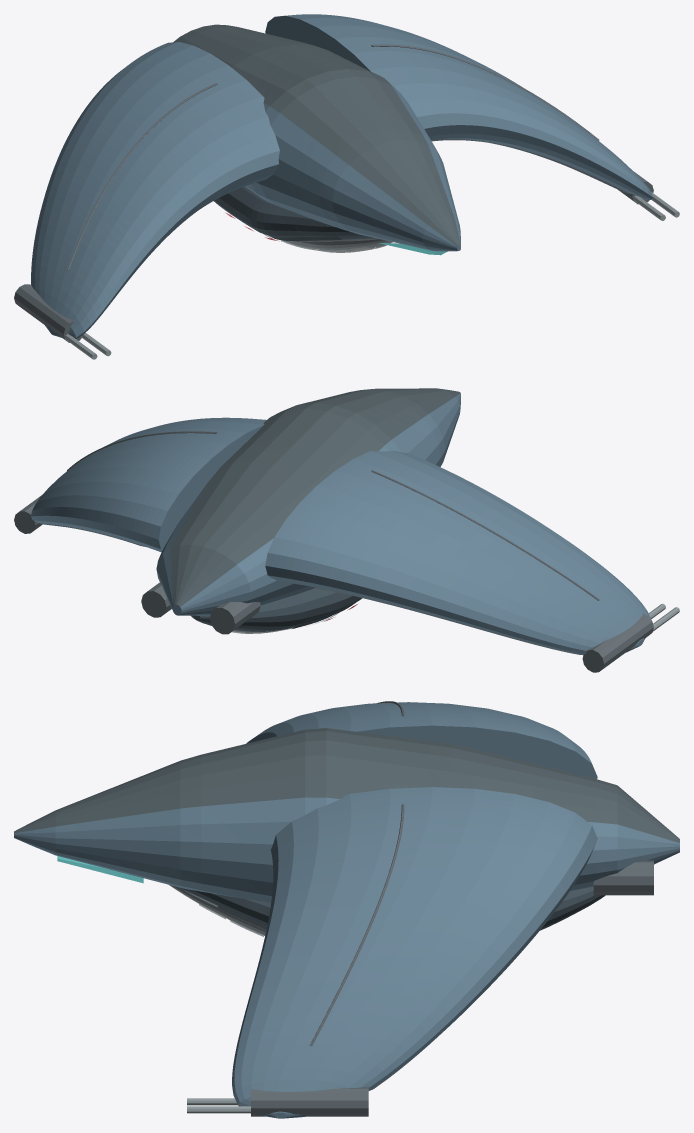
The model's file is ambwe_blue_off.glb.
The picture shows the model from 3 angles, top to bottom: view 1: azimuth 30°, elevation 25°; view 2: azimuth 150°, elevation 25°; view 3: azimuth 270°, elevation 25°; orthographic projection. The views are drawn at different scales.
Visible parts, largest first — view 1: material_0, material_1, material_2, material_9, material_11, material_3, material_5; view 2: material_0, material_1, material_9, material_2, material_10; view 3: material_0, material_1, material_9, material_2, material_11, material_3.
Part boxes in pixels (<box>): material_0: <box>31,14,652,339</box>; material_1: <box>173,24,460,246</box>; material_2: <box>214,186,377,239</box>; material_9: <box>14,44,653,342</box>; material_11: <box>65,192,679,359</box>; material_3: <box>283,238,392,251</box>; material_5: <box>214,200,342,240</box>; material_0: <box>31,393,651,654</box>; material_1: <box>170,388,460,606</box>; material_9: <box>14,431,653,672</box>; material_2: <box>190,588,361,631</box>; material_10: <box>35,522,583,654</box>; material_0: <box>14,702,679,1118</box>; material_1: <box>14,728,679,842</box>; material_9: <box>251,701,653,1116</box>; material_2: <box>174,886,605,930</box>; material_11: <box>187,1098,250,1113</box>; material_3: <box>169,885,266,935</box>.
Bounding box in the file's own units: 4.65 × 1.35 × 3.85.
